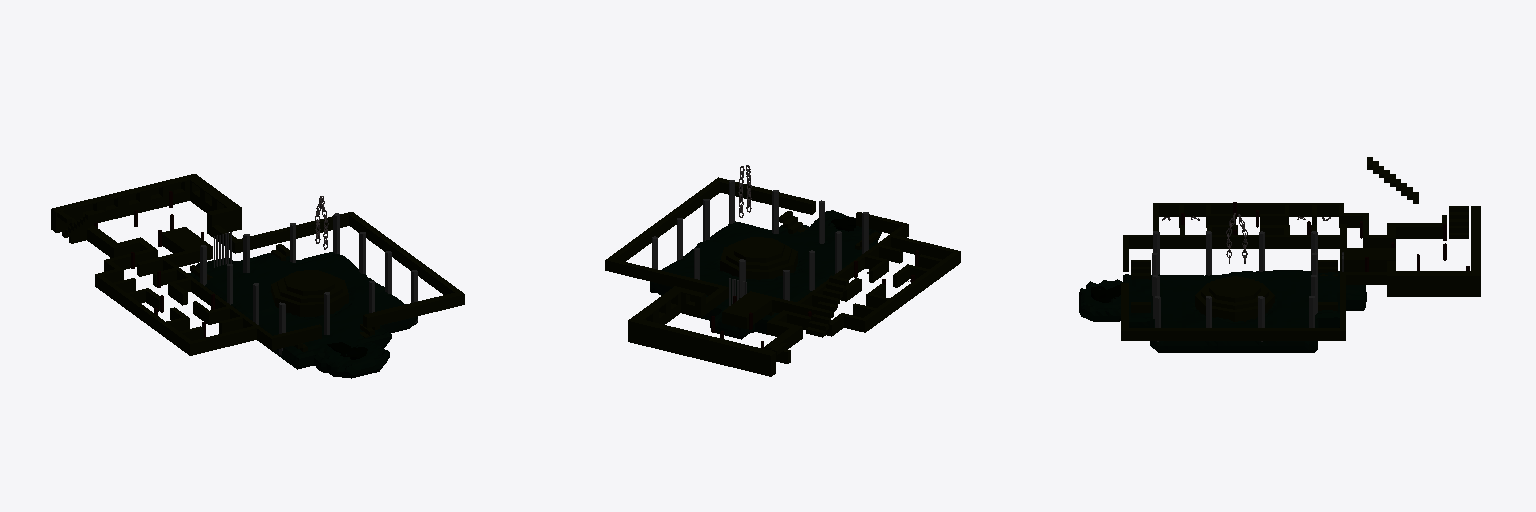
The model's file is dungeon2_walls.obj.
3 views of the same model, side by side, from view 1: azimuth 30°, elevation 25°; view 2: azimuth 150°, elevation 25°; view 3: azimuth 270°, elevation 25° (orthographic).
Parts seen in each view (by area): view 1: Cylinder.128_Cylinder.129; view 2: Cylinder.128_Cylinder.129; view 3: Cylinder.128_Cylinder.129.
Boxes of the visible parts, x1=… form: Cylinder.128_Cylinder.129: x1=51, y1=174, x2=464, y2=378; Cylinder.128_Cylinder.129: x1=605, y1=165, x2=960, y2=376; Cylinder.128_Cylinder.129: x1=1079, y1=157, x2=1480, y2=352.
Bounding box in the file's own units: 13.72 × 6.5 × 18.46.